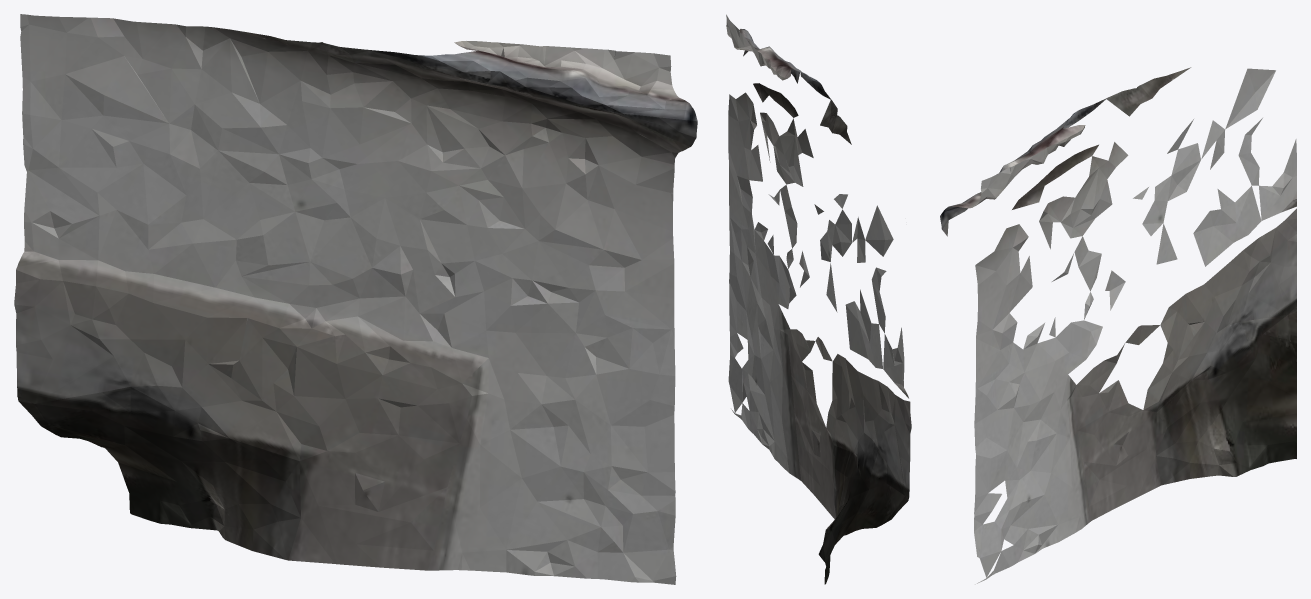
The picture shows the model from 3 angles, left to right: view 1: azimuth 30°, elevation 25°; view 2: azimuth 150°, elevation 25°; view 3: azimuth 270°, elevation 25°; orthographic projection. The views are drawn at different scales.
Size of the model in its own units: 0.7519 by 0.8374 by 0.6705.
3 materials, 3 textured.
